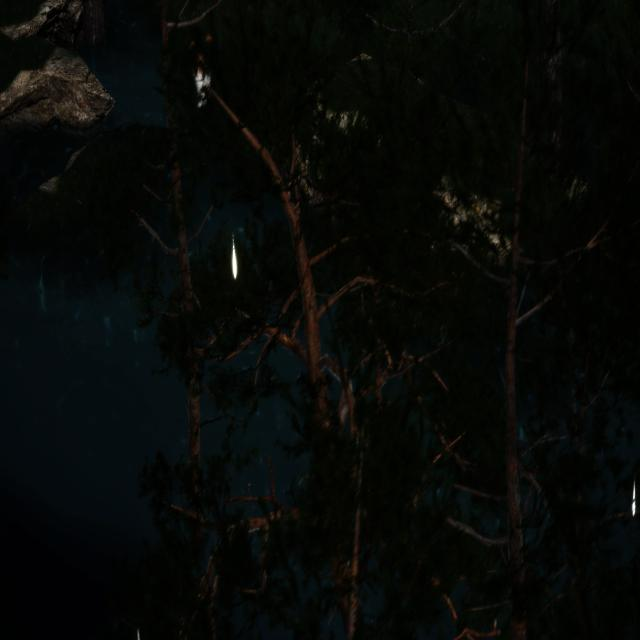Human: (183, 29, 215, 157)
